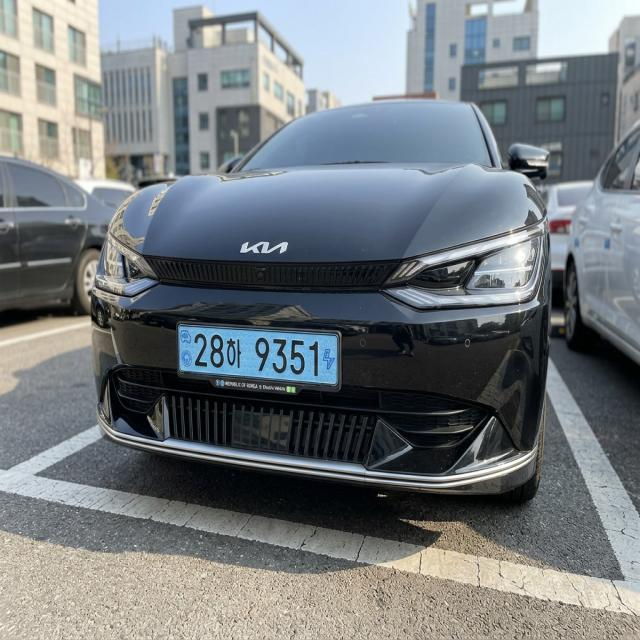car: (169, 314, 351, 404)
carev: (176, 322, 193, 380), (320, 335, 339, 384)
